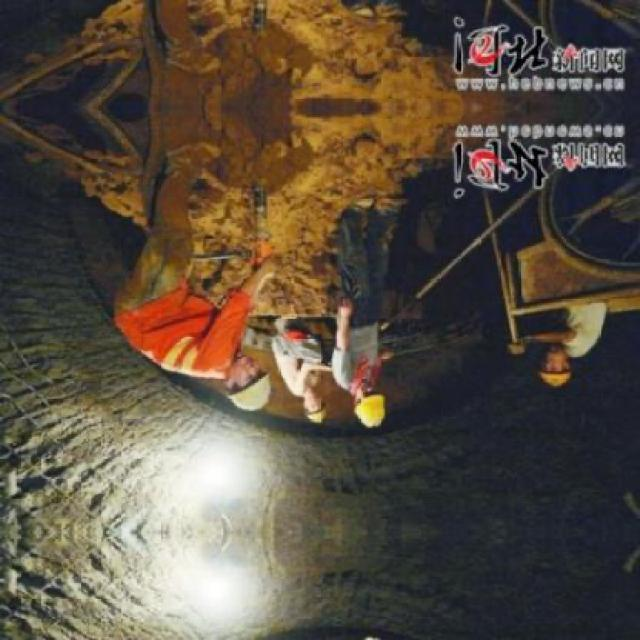con casco: (201, 318, 277, 428), (310, 384, 413, 459), (497, 338, 585, 403)
